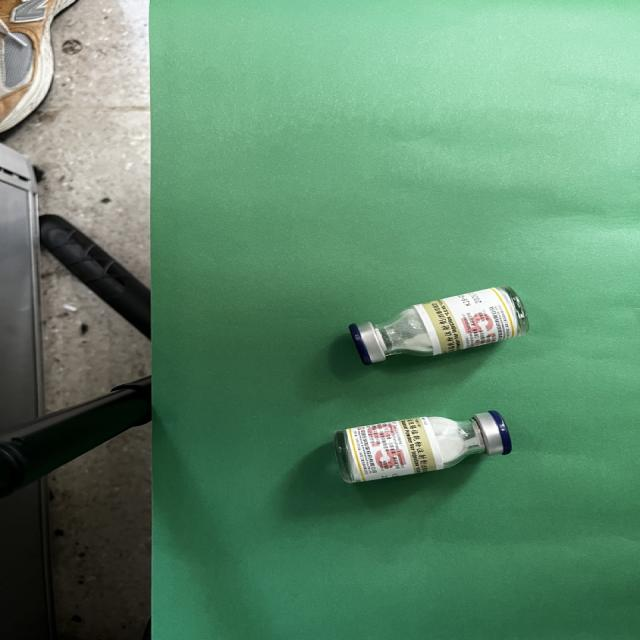Vials: (349, 286, 530, 366), (334, 410, 513, 484)
